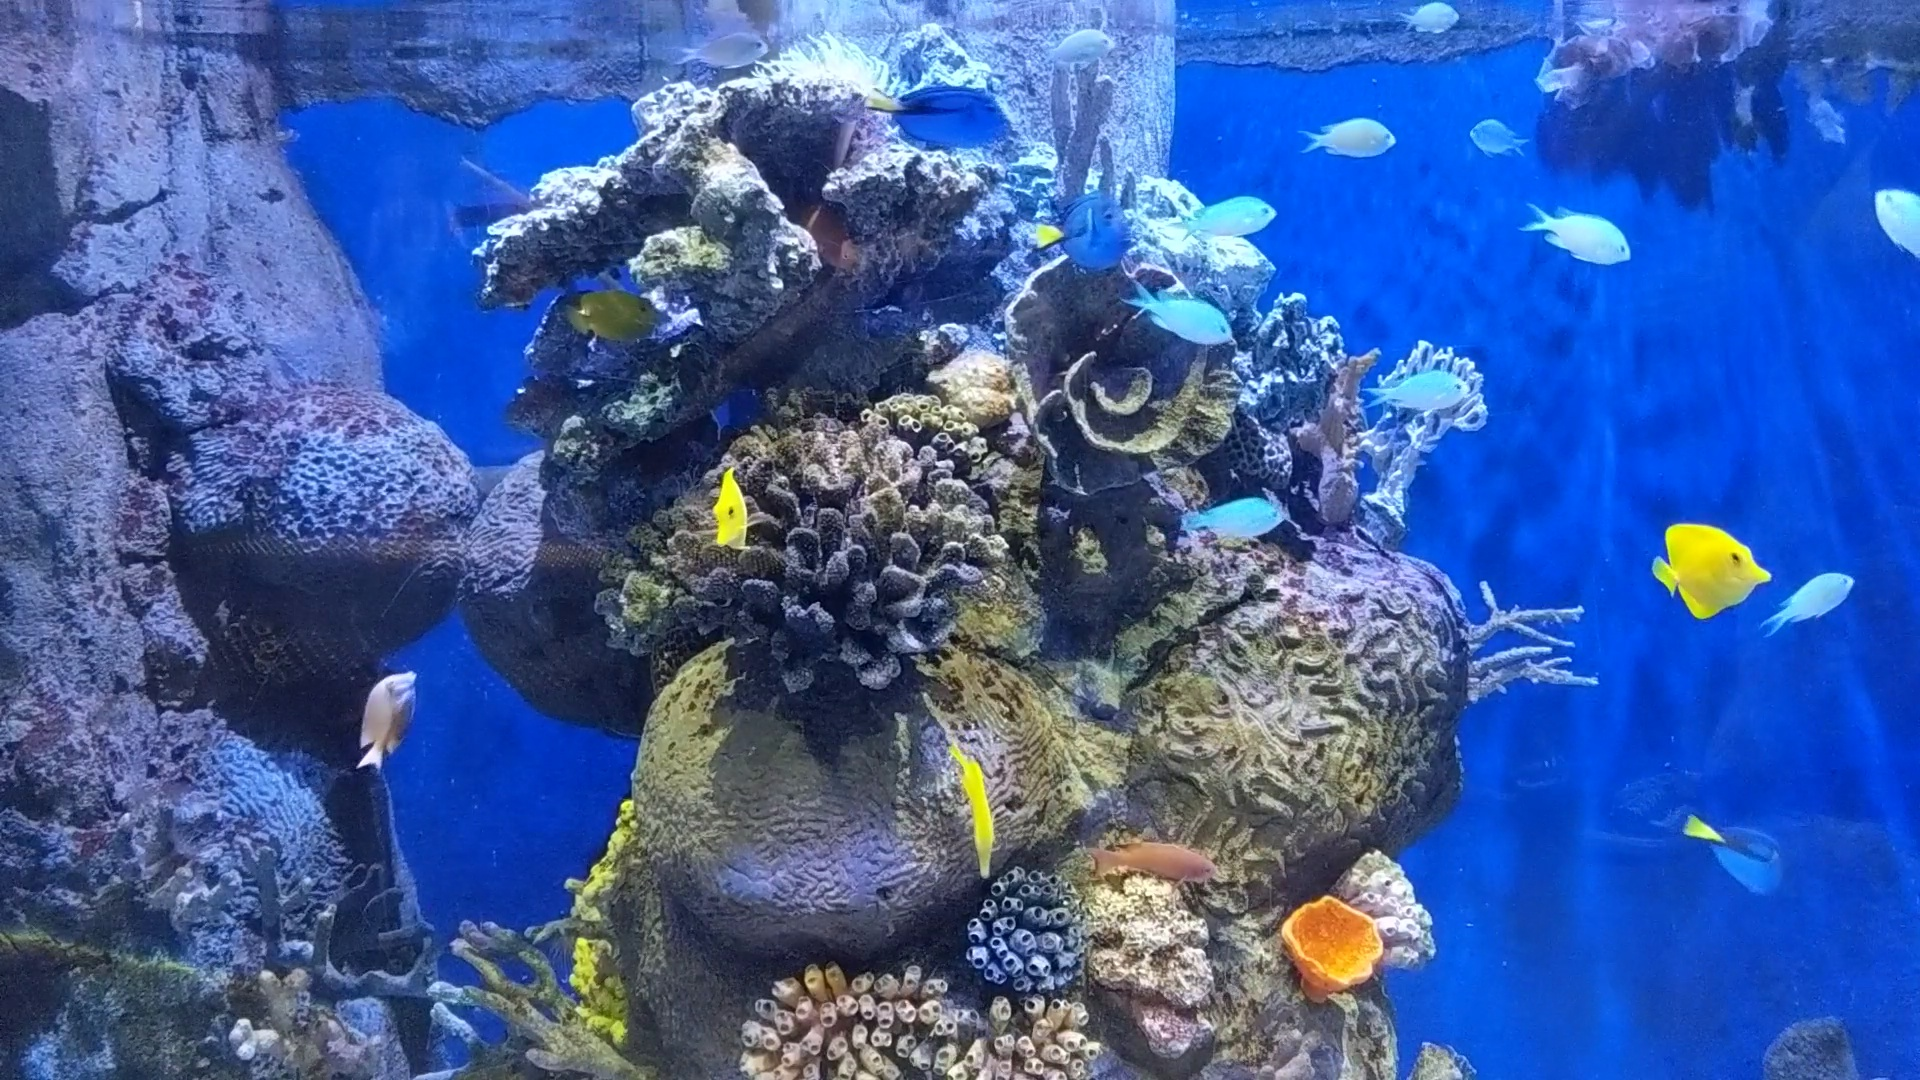blue tang surgeonfish: (864, 82, 1021, 152), (1684, 808, 1797, 897), (1015, 196, 1127, 276)
damselfish: (1121, 280, 1244, 349), (1516, 196, 1629, 269), (1760, 568, 1858, 642), (1367, 367, 1477, 419), (1170, 196, 1280, 239), (1168, 496, 1282, 537), (1866, 181, 1917, 270), (676, 28, 773, 73), (1303, 116, 1400, 160), (1044, 22, 1120, 76), (1465, 111, 1524, 165), (1808, 88, 1857, 152), (1400, 0, 1458, 45)
saddle butterfly fish: (1647, 517, 1772, 616), (957, 737, 1004, 880), (562, 290, 676, 342), (707, 464, 760, 556)
